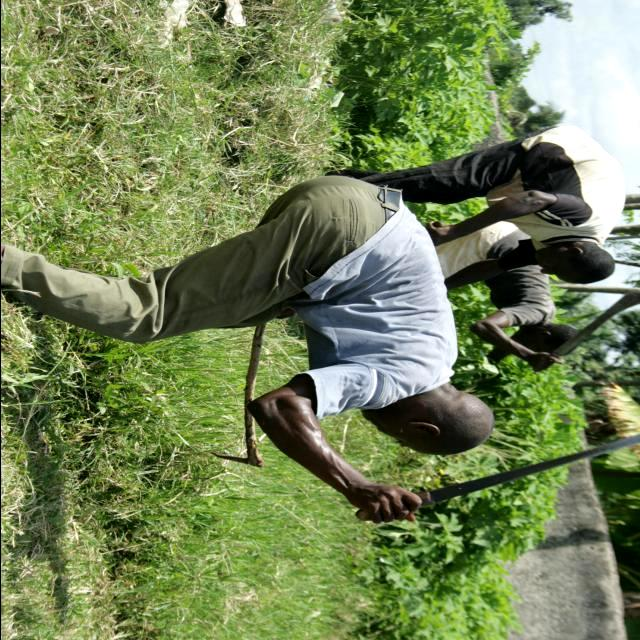long knife: (368, 412, 640, 568)
